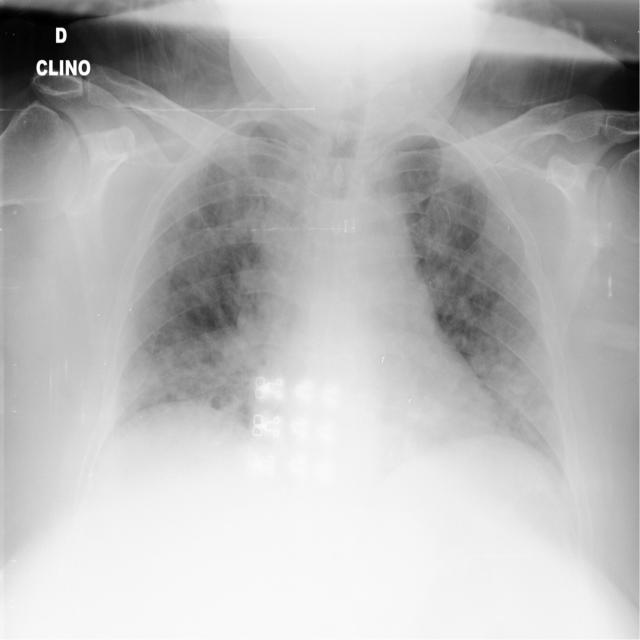diaphragm: (120, 406, 568, 640)
heart: (250, 190, 508, 483)
left_lobe: (366, 128, 571, 476)
right_lobe: (118, 108, 319, 424)
